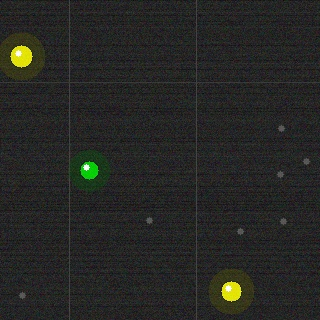green_normal: (78, 159, 100, 181)
yellow_warning: (8, 43, 34, 69), (219, 279, 243, 303)
